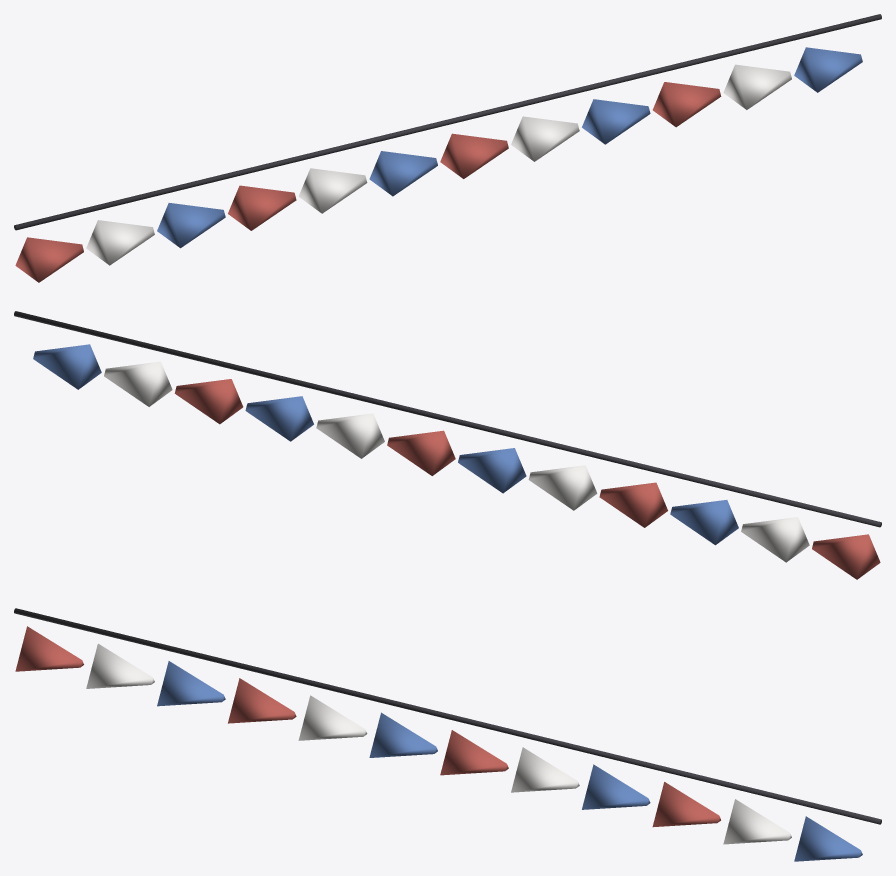
Rendered from prop_garland_a.glb.
The picture shows the model from 3 angles, top to bottom: view 1: azimuth 30°, elevation 25°; view 2: azimuth 150°, elevation 25°; view 3: azimuth 330°, elevation 25°; orthographic projection.
Visible parts, largest first — view 1: garland_a; view 2: garland_a; view 3: garland_a.
Part boxes in pixels (x1=…): garland_a: x1=14, y1=14, x2=881, y2=282; garland_a: x1=14, y1=311, x2=881, y2=579; garland_a: x1=14, y1=608, x2=881, y2=861.
Bounding box in the file's own units: 4.4 × 0.252 × 0.2078.
